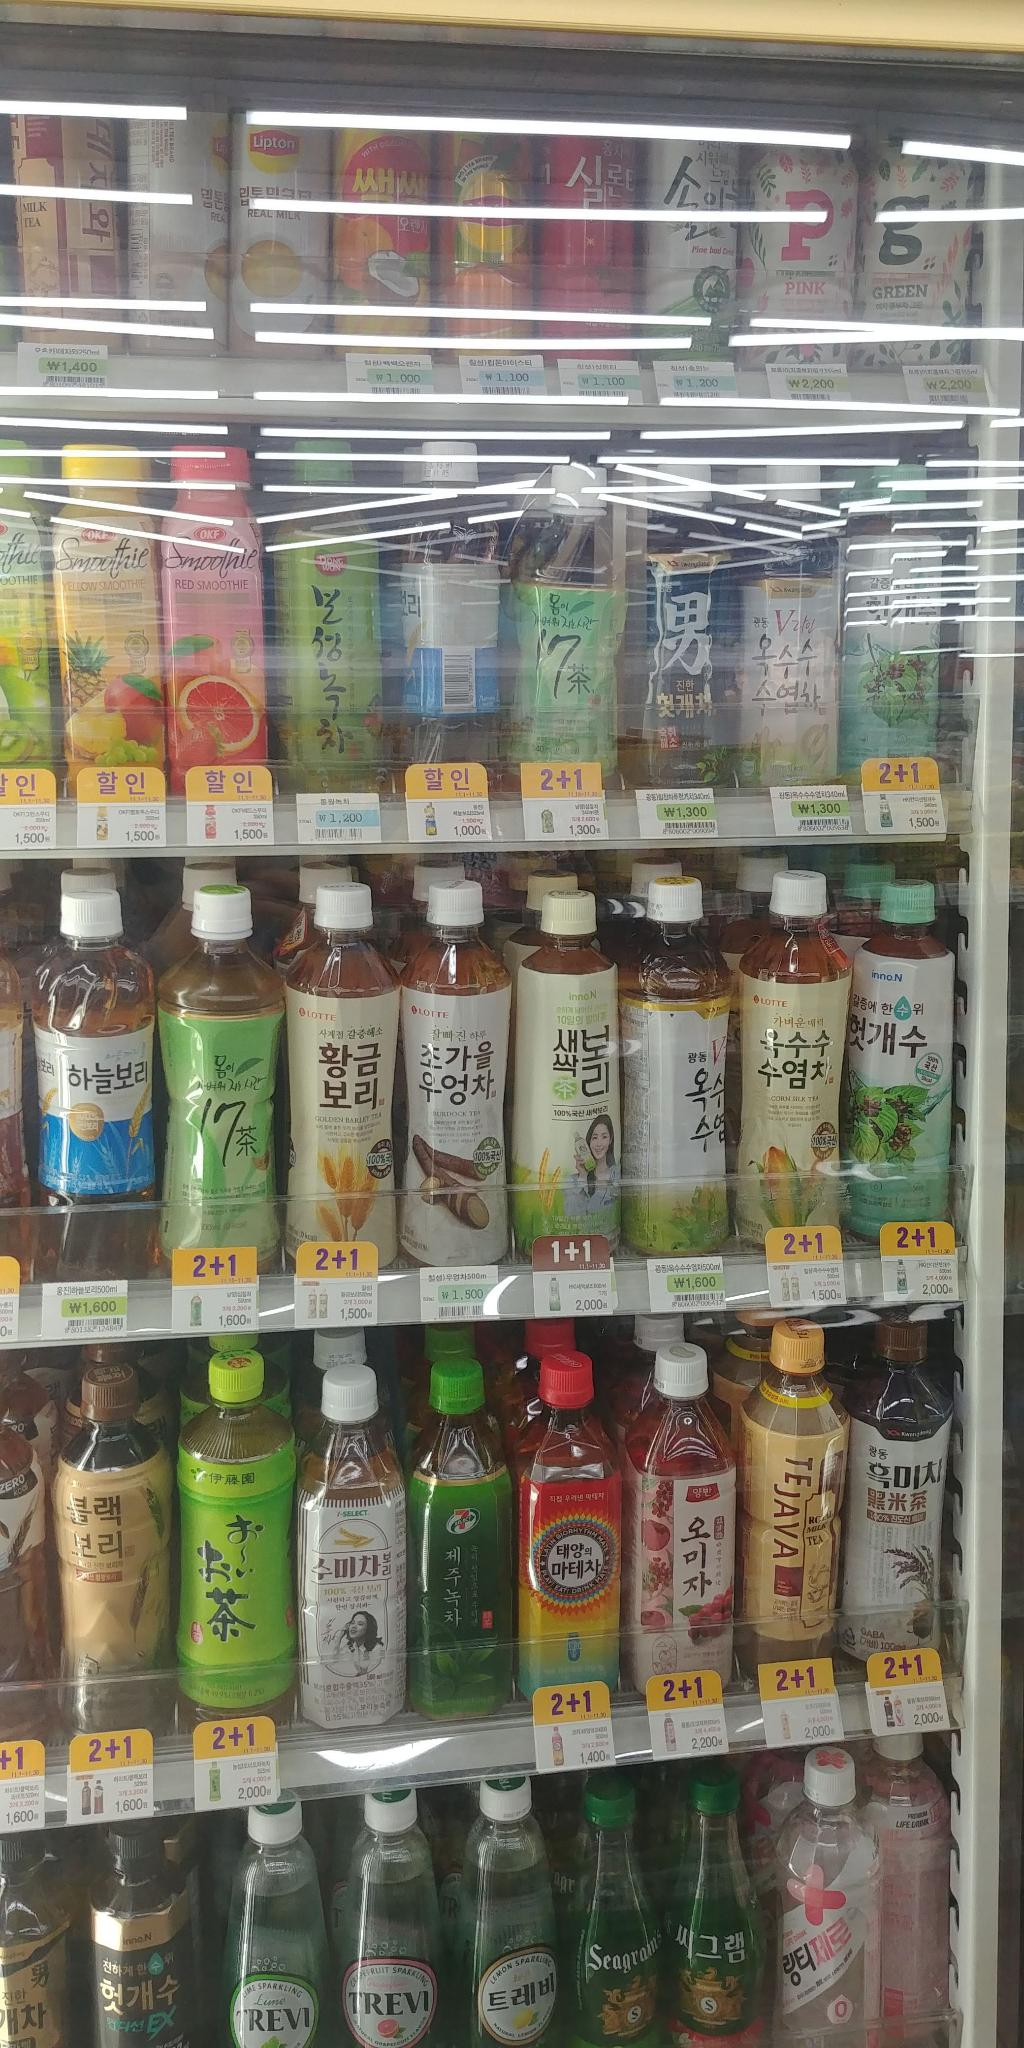haneulbori: (33, 862, 167, 1272), (394, 428, 507, 789)
heotgaecha: (628, 457, 735, 794)
oksususuyeomcha: (620, 876, 733, 1250), (747, 455, 841, 797)
